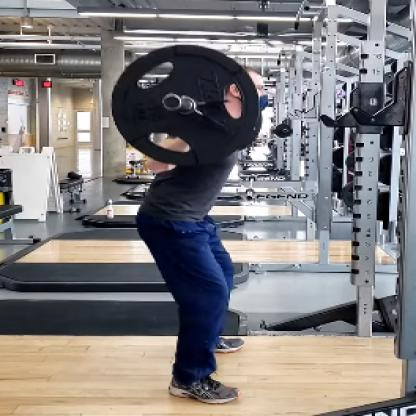Barbell: (101, 40, 269, 168)
